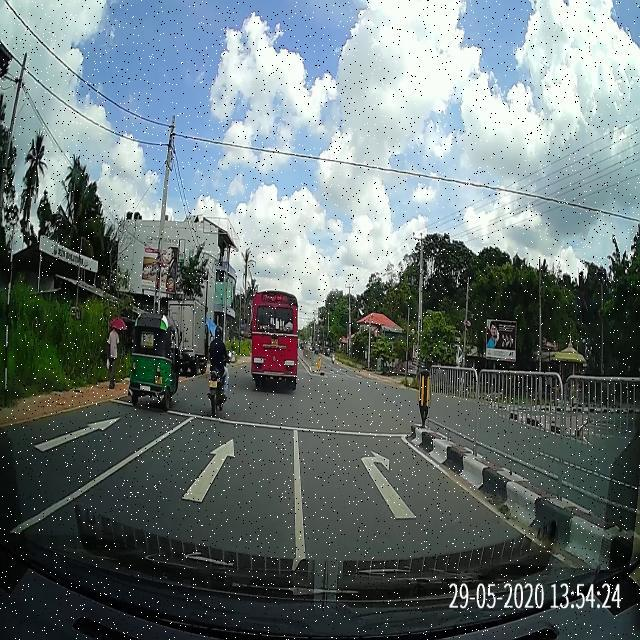forward: (99, 420, 304, 535)
